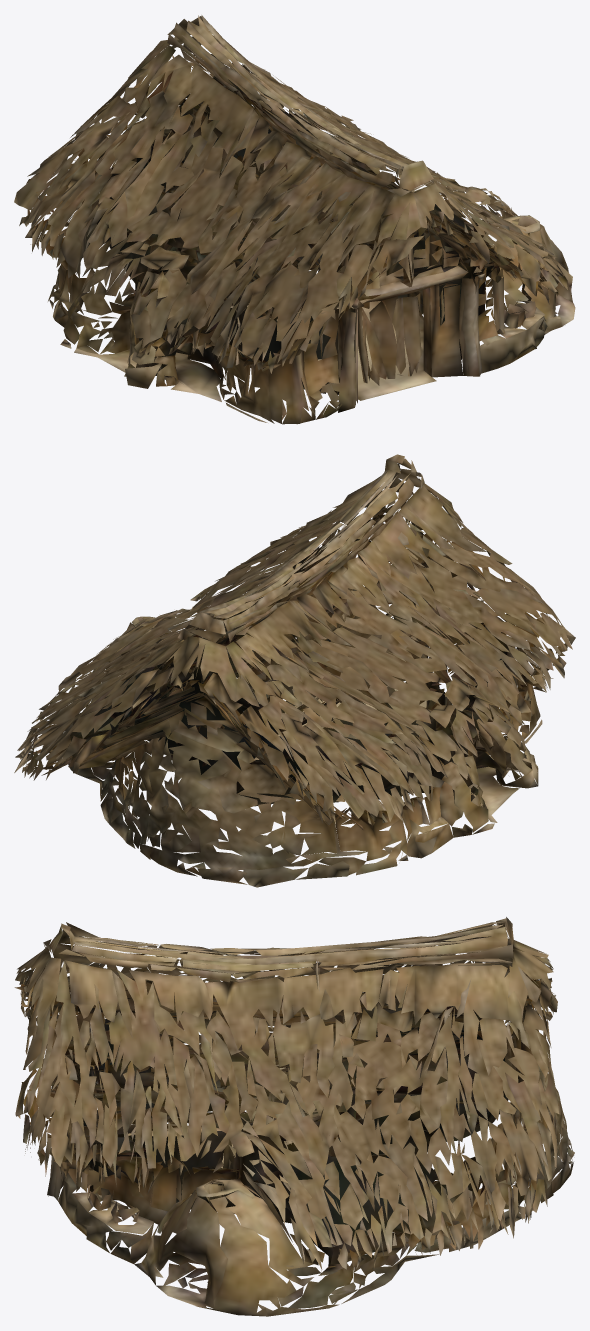
File: pottery_kiln_far.glb
3 views of the same model, one above another, from view 1: azimuth 30°, elevation 25°; view 2: azimuth 150°, elevation 25°; view 3: azimuth 270°, elevation 25° (orthographic). The views are drawn at different scales.
Visible parts, largest first — view 1: model; view 2: model; view 3: model.
Part boxes in pixels (x1,y1,x2,y2): model: [14, 15, 575, 424]; model: [14, 454, 575, 887]; model: [14, 917, 574, 1316].
Bounding box in the file's own units: 0.9941 × 0.5234 × 0.9855.
1 material, 1 textured.
